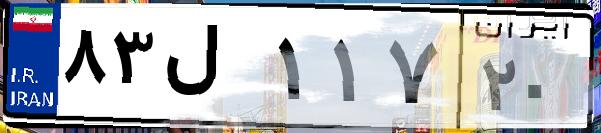0: (525, 38, 570, 115)
1: (270, 28, 330, 110), (330, 28, 385, 110)
2: (475, 38, 525, 113)
3: (110, 28, 158, 98)
7: (385, 28, 445, 110)
8: (57, 26, 110, 100)
ل: (158, 20, 270, 120)
